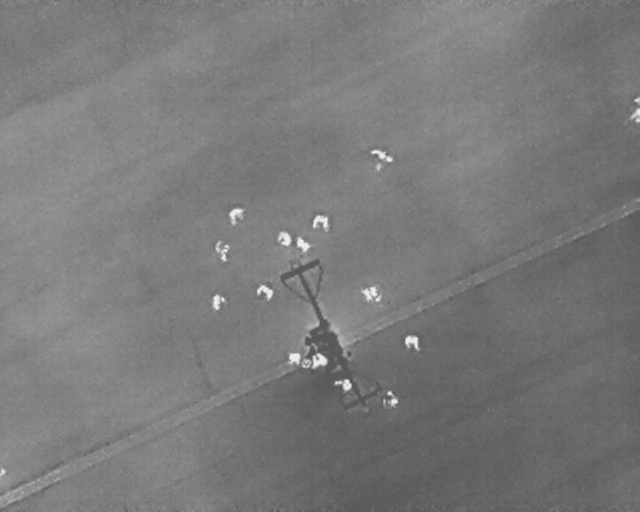Person: (367, 147, 393, 171), (252, 281, 277, 303), (361, 282, 382, 303), (227, 207, 245, 225), (313, 212, 330, 231), (629, 94, 639, 126), (215, 241, 230, 262), (382, 390, 399, 408), (211, 291, 226, 311), (405, 334, 420, 353), (275, 229, 291, 246), (295, 236, 310, 253), (312, 351, 327, 368), (334, 378, 353, 391), (287, 351, 301, 365)
